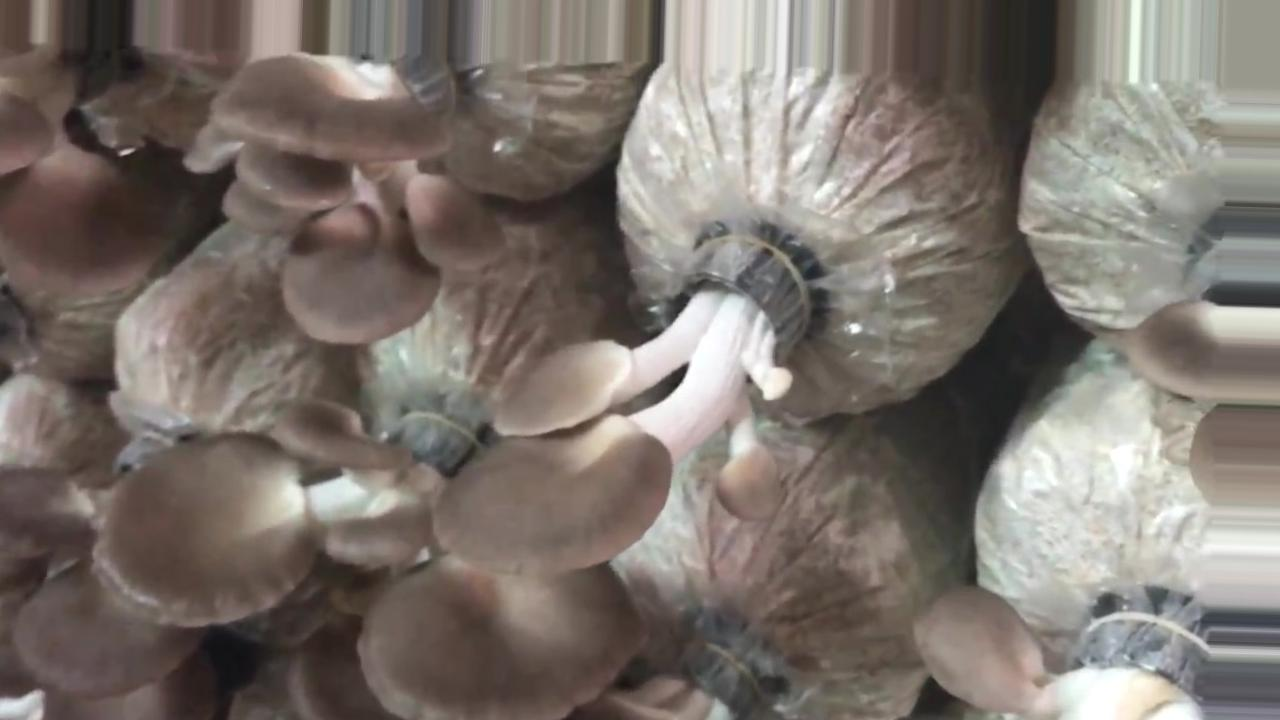nam: (95, 396, 652, 720), (431, 224, 832, 571), (211, 53, 488, 350)
